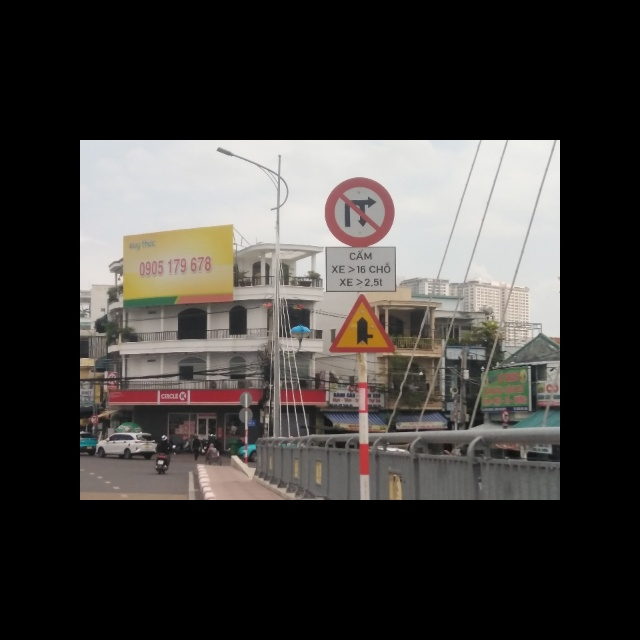Cấm quay đầu và rẽ phải: (324, 177, 393, 245)
Giao nhau với đường không ưu tiên: (329, 292, 398, 353)
